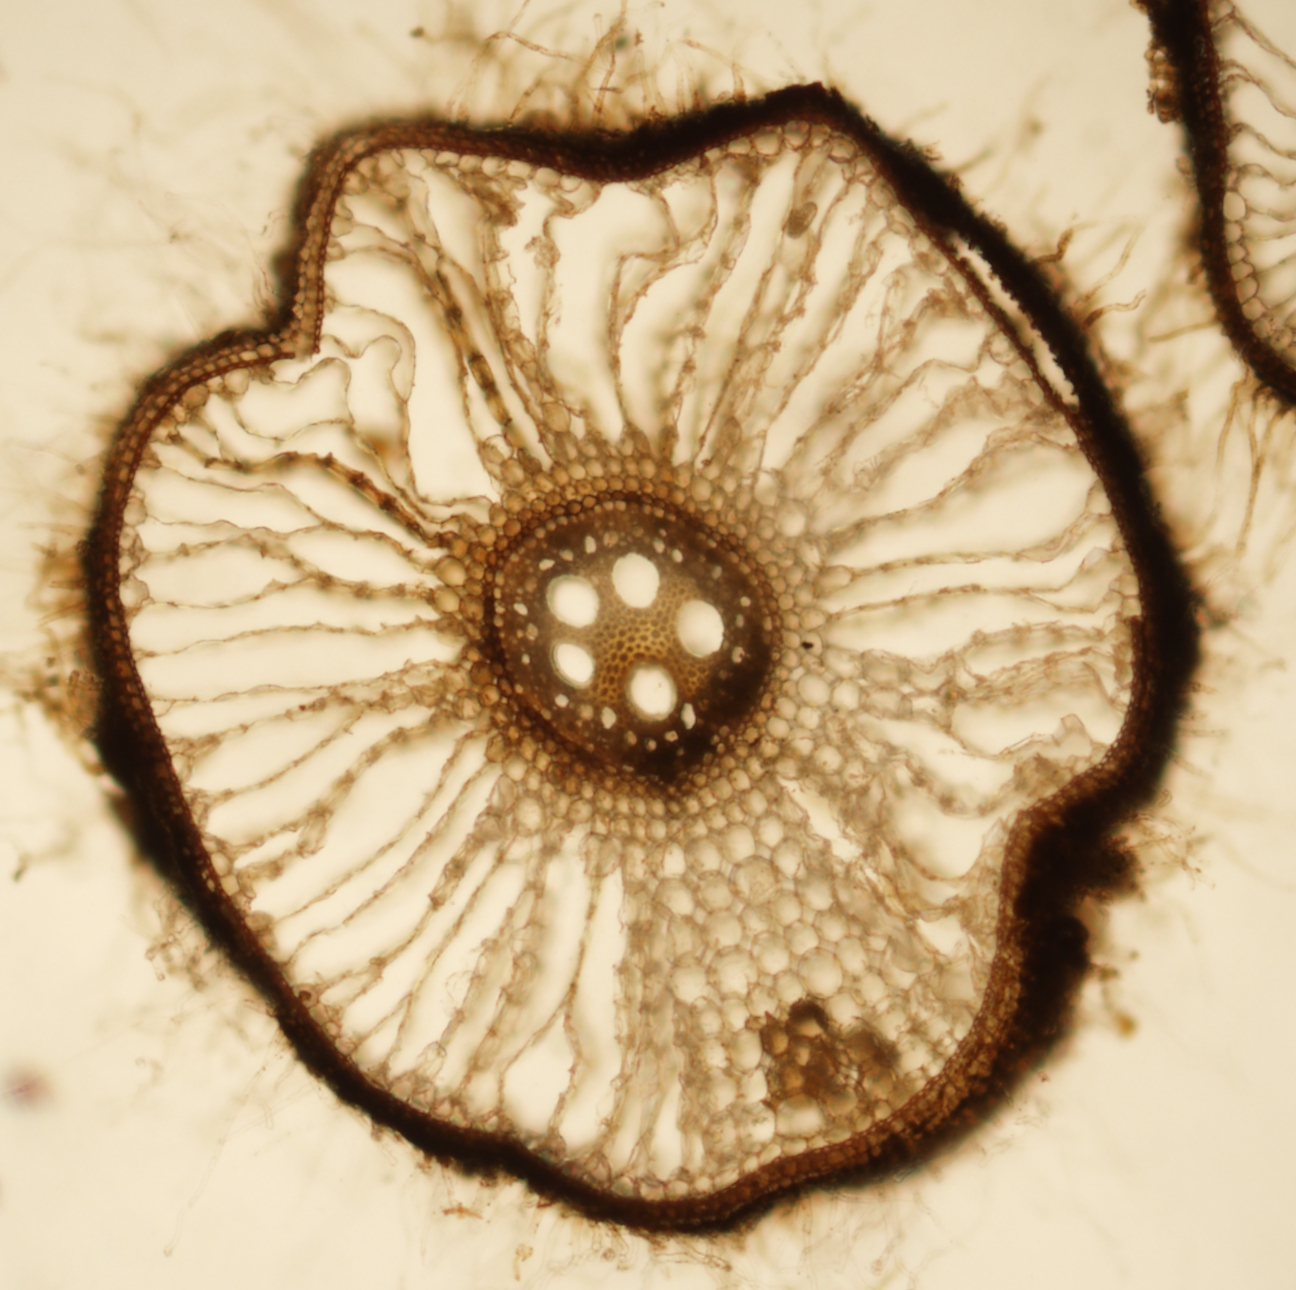lm: (612, 552, 659, 608), (547, 574, 598, 626), (676, 600, 723, 656), (630, 666, 675, 715), (553, 641, 594, 684)
